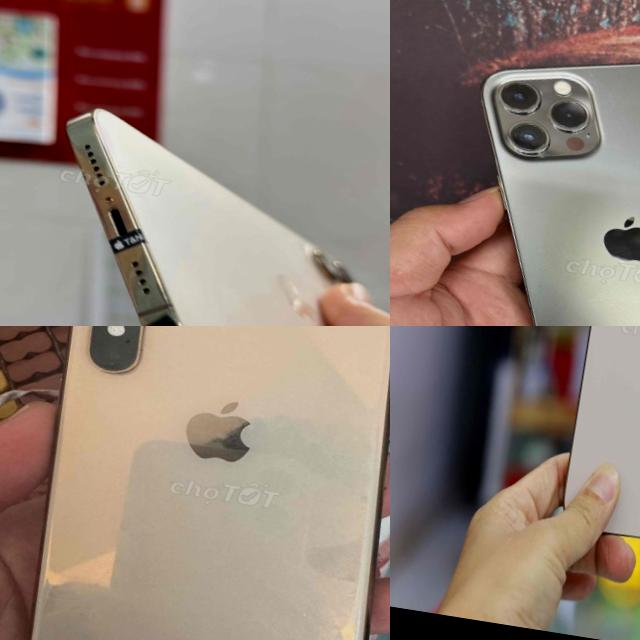gen_12_13: (22, 92, 390, 326), (434, 33, 640, 326)
gen_16: (546, 326, 640, 561)
gen_x_xs: (0, 326, 390, 640)
